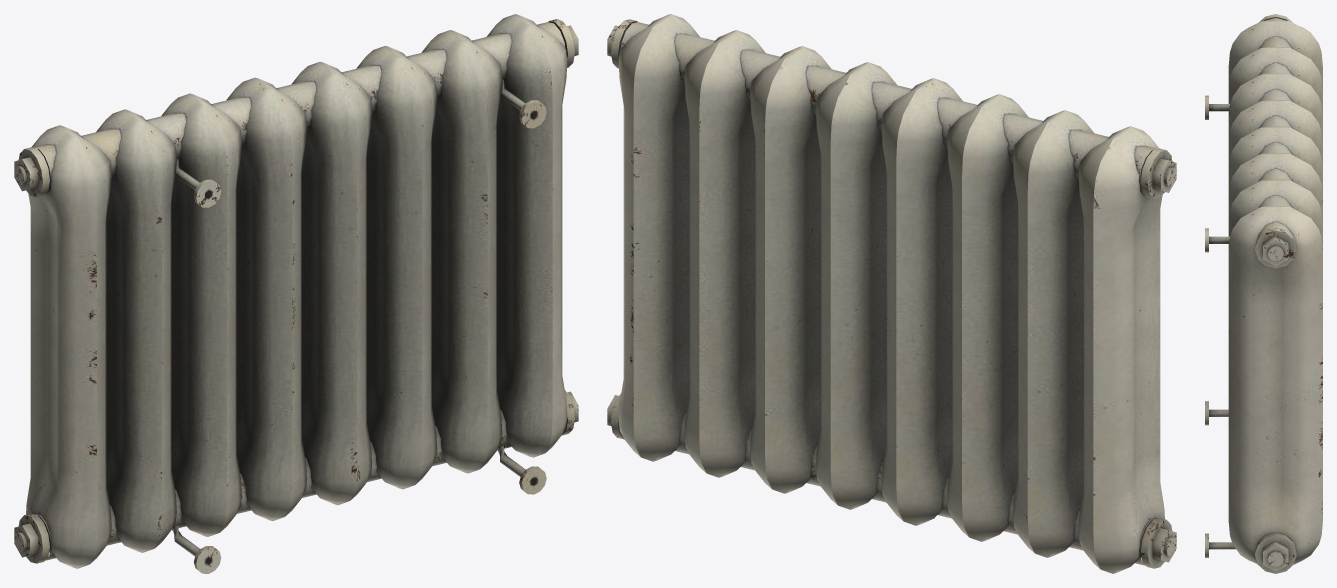
Rendered from rad_8_bare_web.glb.
The picture shows the model from 3 angles, left to right: view 1: azimuth 30°, elevation 25°; view 2: azimuth 150°, elevation 25°; view 3: azimuth 270°, elevation 25°; orthographic projection. The views are drawn at different scales.
Visible parts, largest first — view 1: Rad8Bare_Body; view 2: Rad8Bare_Body; view 3: Rad8Bare_Body.
Boxes of the visible parts, x1=… form: Rad8Bare_Body: x1=14, y1=14, x2=578, y2=573; Rad8Bare_Body: x1=607, y1=14, x2=1176, y2=573; Rad8Bare_Body: x1=1205, y1=14, x2=1322, y2=573.
Bounding box in the file's own units: 0.792 × 0.594 × 0.175.
Materials: 1 (1 with a texture image).
